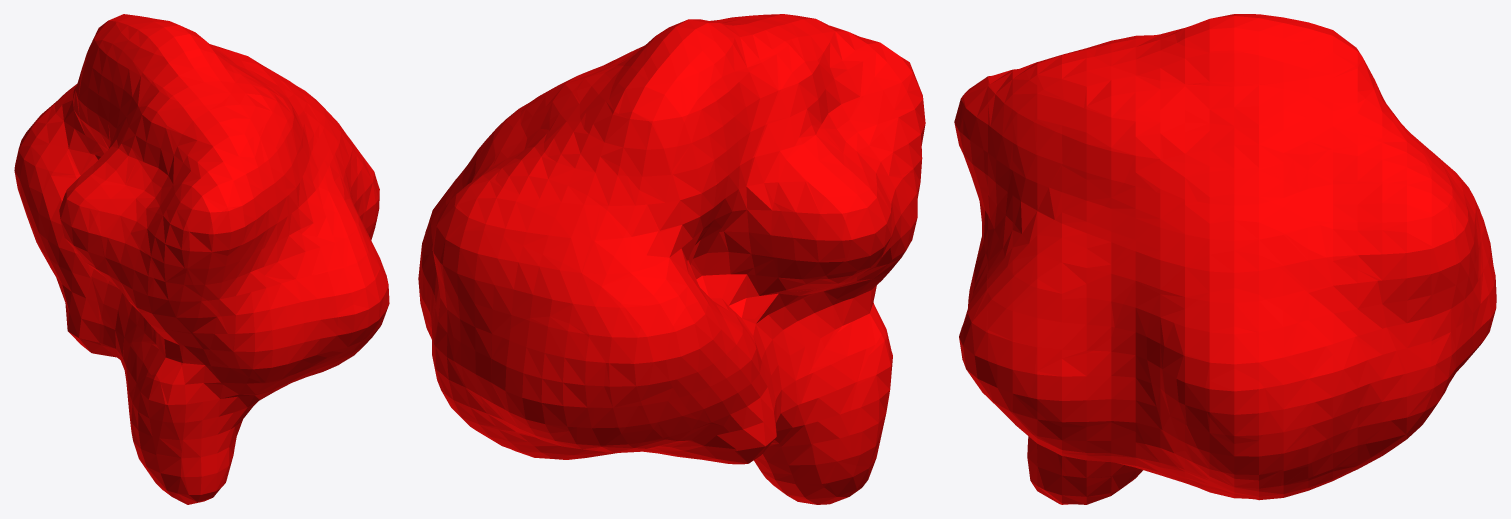
File: ytfP_coarse.dae
The picture shows the model from 3 angles, left to right: view 1: azimuth 30°, elevation 25°; view 2: azimuth 150°, elevation 25°; view 3: azimuth 270°, elevation 25°; orthographic projection. The views are drawn at different scales.
Parts seen in each view (by area): view 1: ytfP; view 2: ytfP; view 3: ytfP.
Part boxes in pixels (bbox=[...]): ytfP: bbox=[14, 14, 389, 504]; ytfP: bbox=[418, 14, 925, 504]; ytfP: bbox=[954, 14, 1496, 504].
Bounding box in the file's own units: 36.08 × 42.95 × 41.59.
